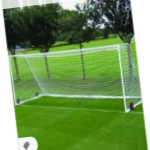goals: (10, 43, 141, 114)
